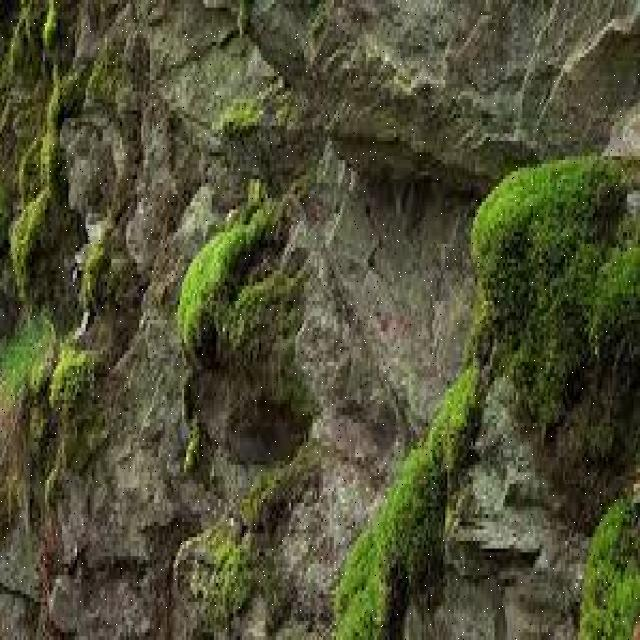Metamorphic: (64, 4, 632, 621)
